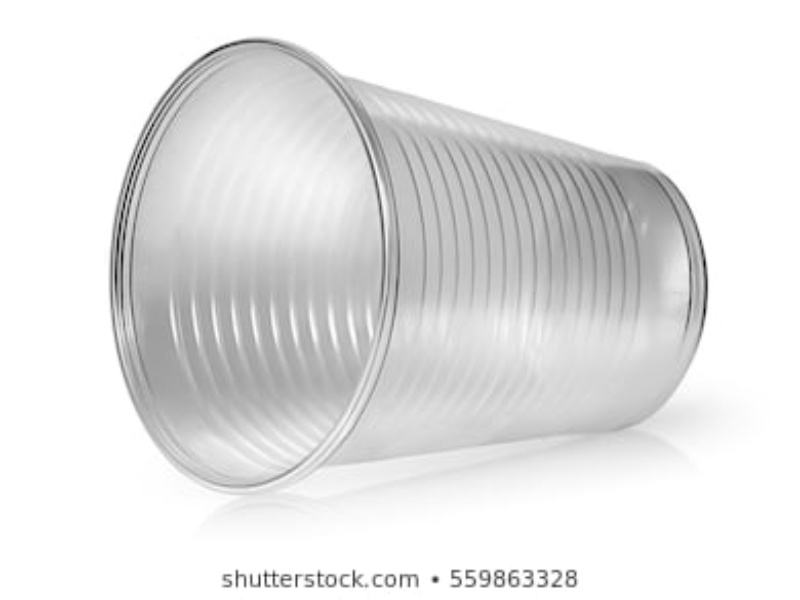plastic-cup: (107, 38, 715, 491)
